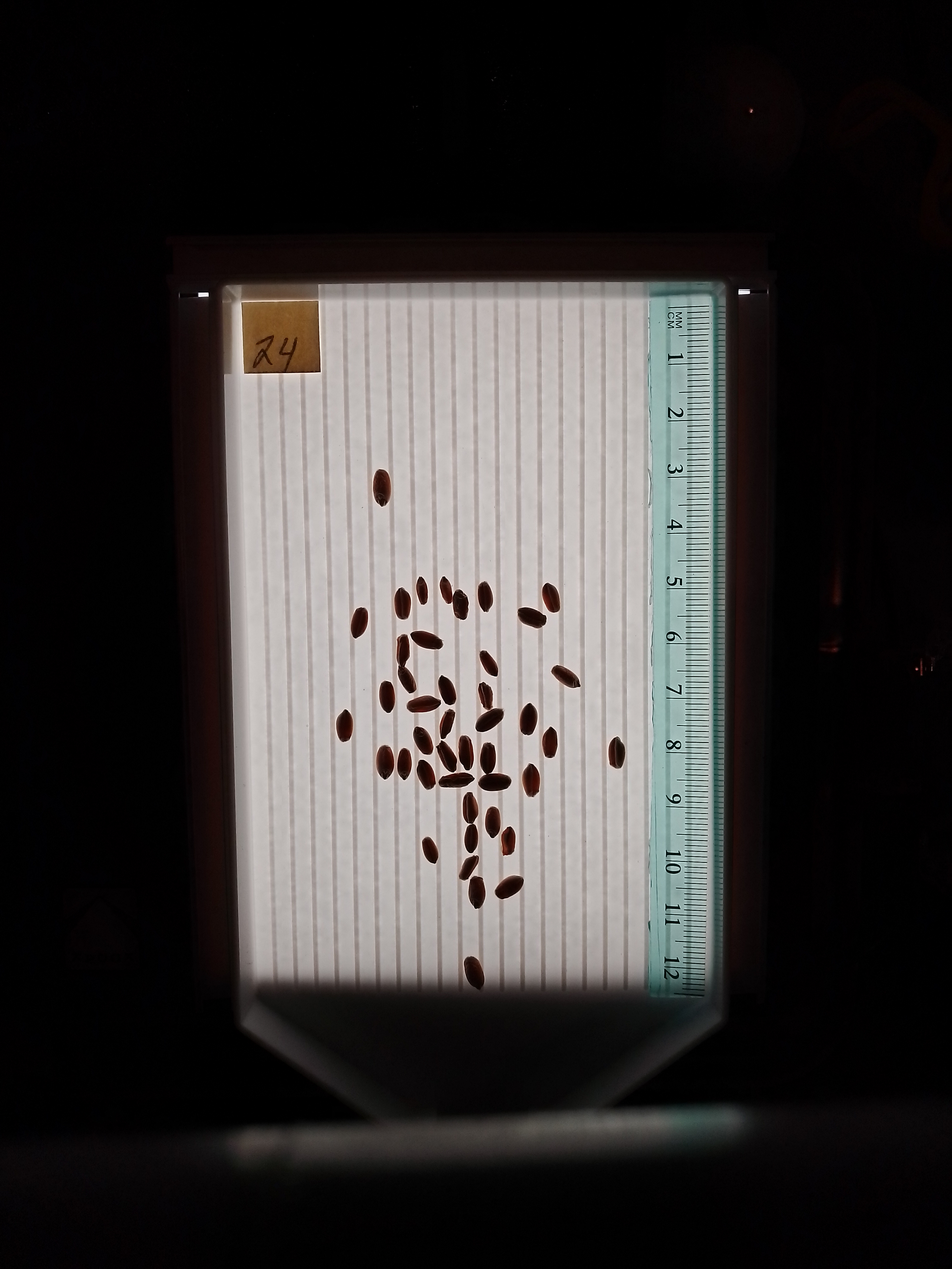seed mask: (606, 736, 627, 770), (476, 709, 504, 733), (552, 665, 579, 689), (496, 875, 523, 899), (373, 470, 391, 506), (464, 957, 484, 989), (522, 764, 540, 797), (479, 773, 510, 792), (413, 631, 442, 651), (407, 695, 439, 713), (376, 746, 394, 778), (518, 607, 545, 628), (336, 711, 354, 742), (437, 743, 456, 772), (440, 772, 472, 789), (520, 704, 538, 734), (421, 836, 440, 864), (458, 736, 474, 769), (468, 877, 485, 908), (417, 760, 435, 789), (414, 727, 433, 754), (394, 589, 411, 619), (379, 682, 395, 713), (351, 608, 368, 637), (543, 584, 560, 613), (480, 743, 496, 773), (542, 728, 558, 757), (480, 651, 499, 675), (397, 749, 412, 779), (439, 676, 455, 704), (485, 808, 501, 836), (399, 667, 416, 693), (453, 590, 468, 619), (463, 794, 478, 823), (478, 583, 493, 611), (460, 856, 478, 879), (501, 828, 516, 855), (440, 711, 454, 739), (478, 683, 493, 709), (397, 636, 410, 665), (464, 824, 477, 853), (440, 577, 452, 603), (417, 578, 428, 604)
